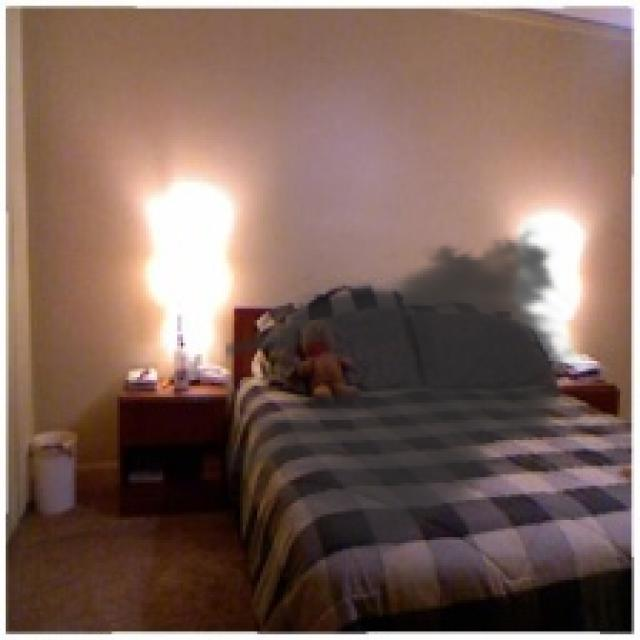smoke: (225, 220, 586, 566)
